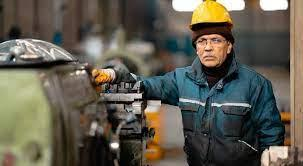Persons: (187, 4, 242, 72)
